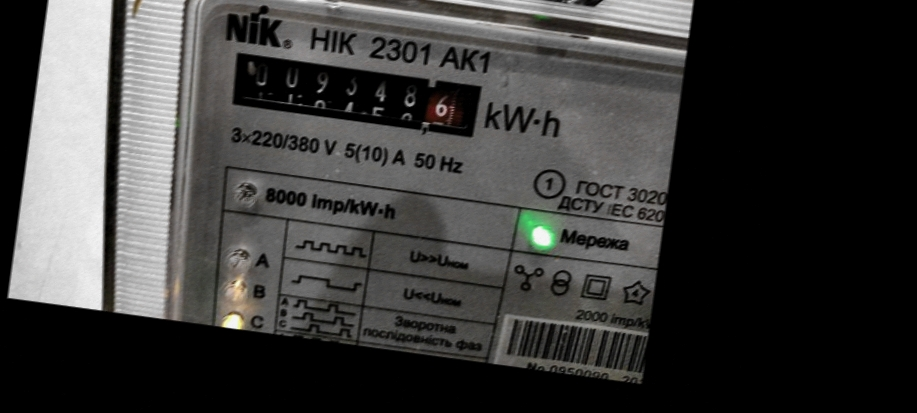0: (251, 60, 271, 88), (282, 61, 300, 89)
3: (343, 71, 360, 97)
4: (369, 72, 391, 104)
6: (431, 89, 451, 120)
8: (401, 80, 419, 109)
9: (313, 69, 330, 97)
screen: (210, 35, 496, 150)
